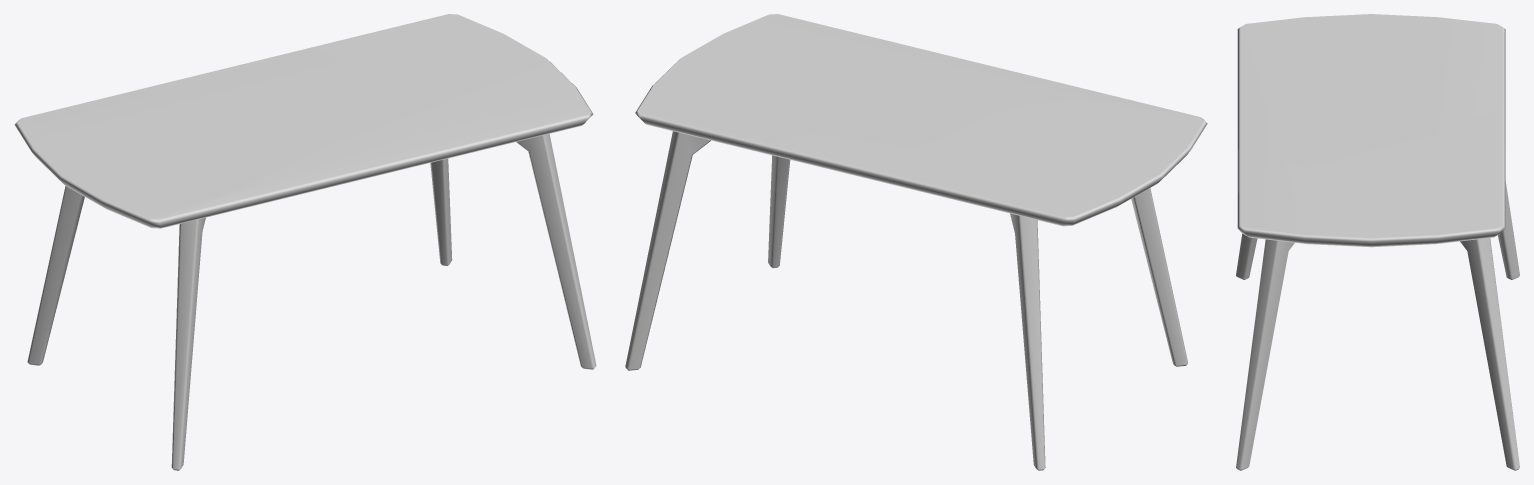
Rendered from kitchen_table_008.fbx.
3 renders of one model, left to right at view 1: azimuth 30°, elevation 25°; view 2: azimuth 150°, elevation 25°; view 3: azimuth 270°, elevation 25°, orthographic. The views are drawn at different scales.
Parts seen in each view (by area): view 1: kitchen_table_008; view 2: kitchen_table_008; view 3: kitchen_table_008.
Part boxes in pixels (left/top/right/bottom): kitchen_table_008: left=14, top=14, right=596, bottom=470; kitchen_table_008: left=625, top=14, right=1207, bottom=470; kitchen_table_008: left=1236, top=14, right=1519, bottom=470.
Bounding box in the file's own units: 195 × 103 × 97.31.
